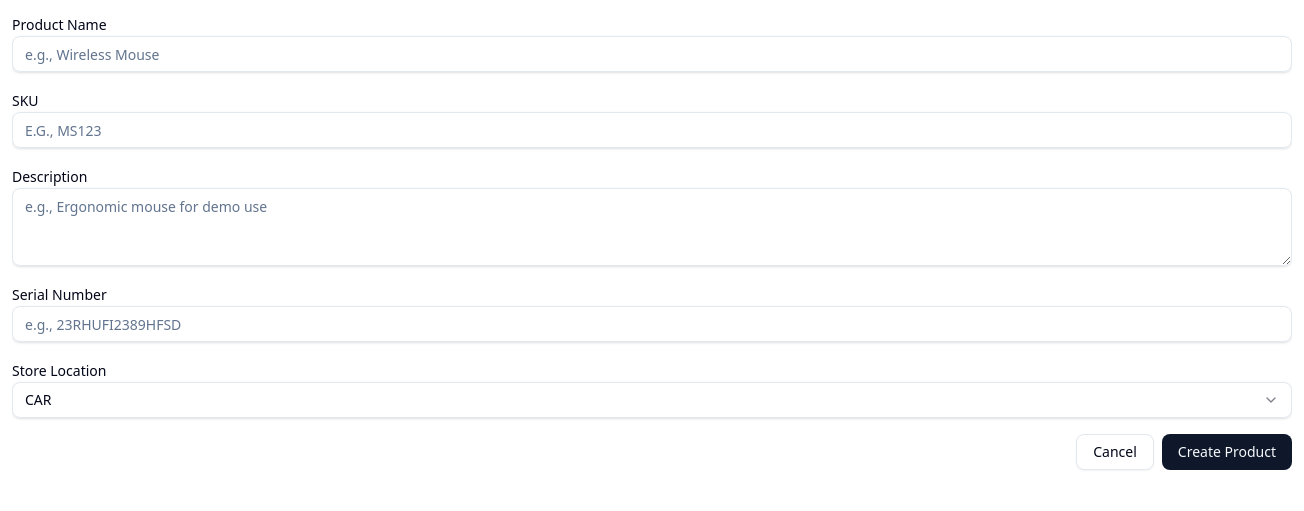
Test: CreateProductForm › should validate SKU format
Type "Test Product" into the field labelled "Product Name" at (652, 54), box [12, 36, 1292, 72]
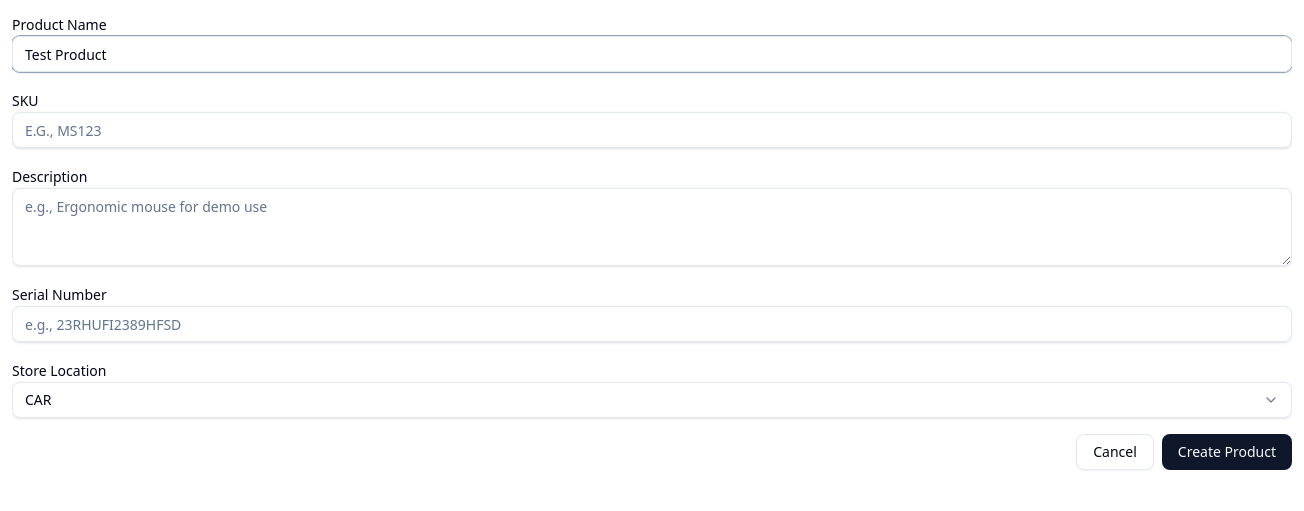
Type "INVALID@SKU" into the field labelled "SKU" at (652, 130), box [12, 112, 1292, 148]
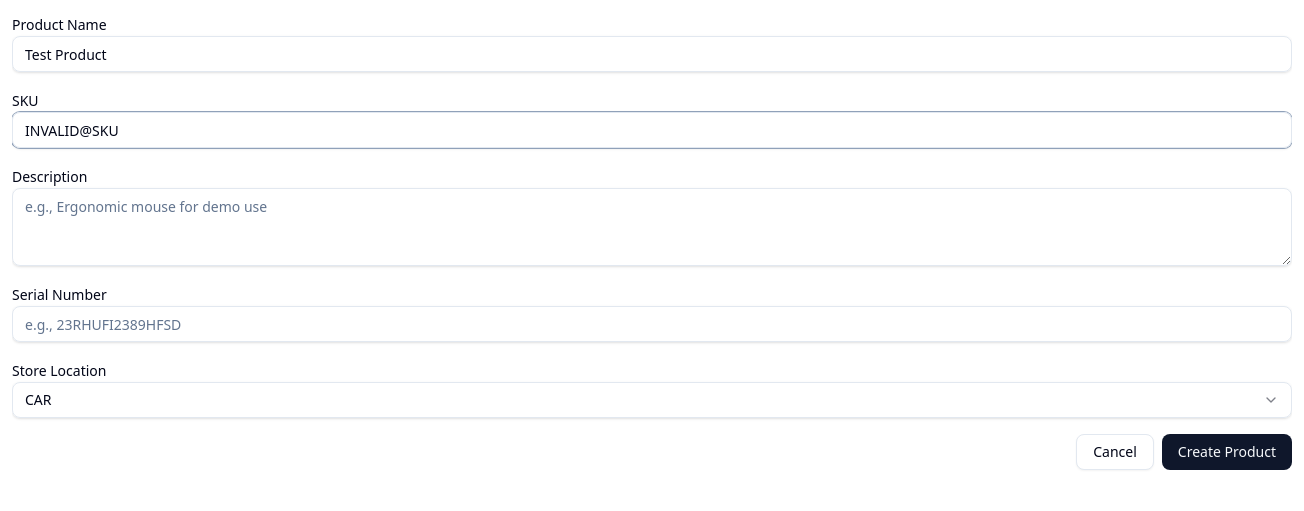
Type "Test Description" into the text box labelled "Description" at (652, 227), box [12, 188, 1292, 266]
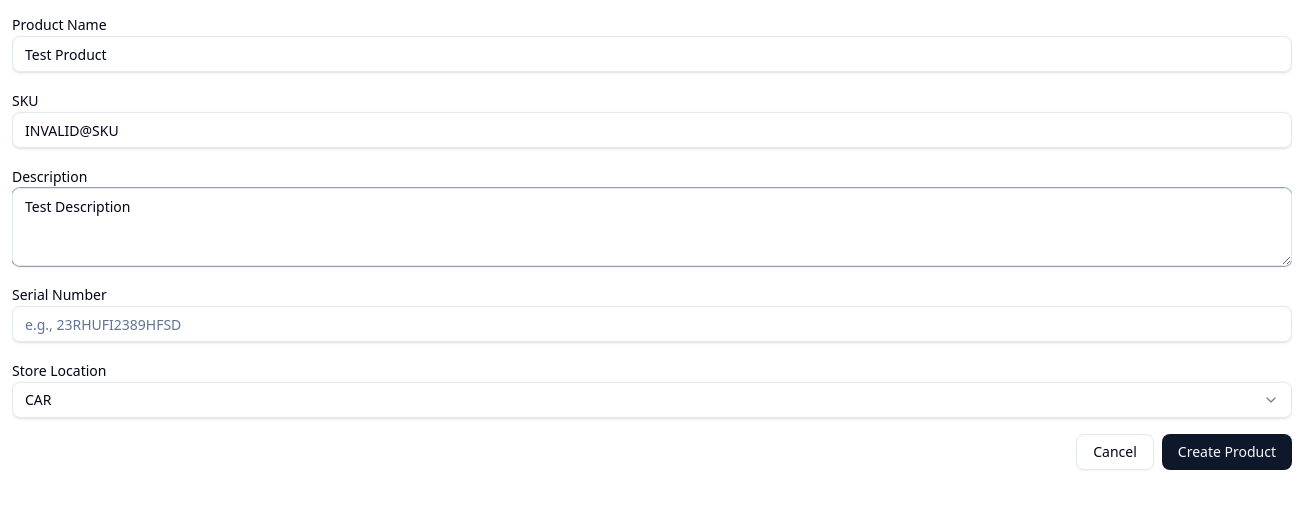
Type "TEST001" into the field labelled "Serial Number" at (652, 324), box [12, 306, 1292, 342]
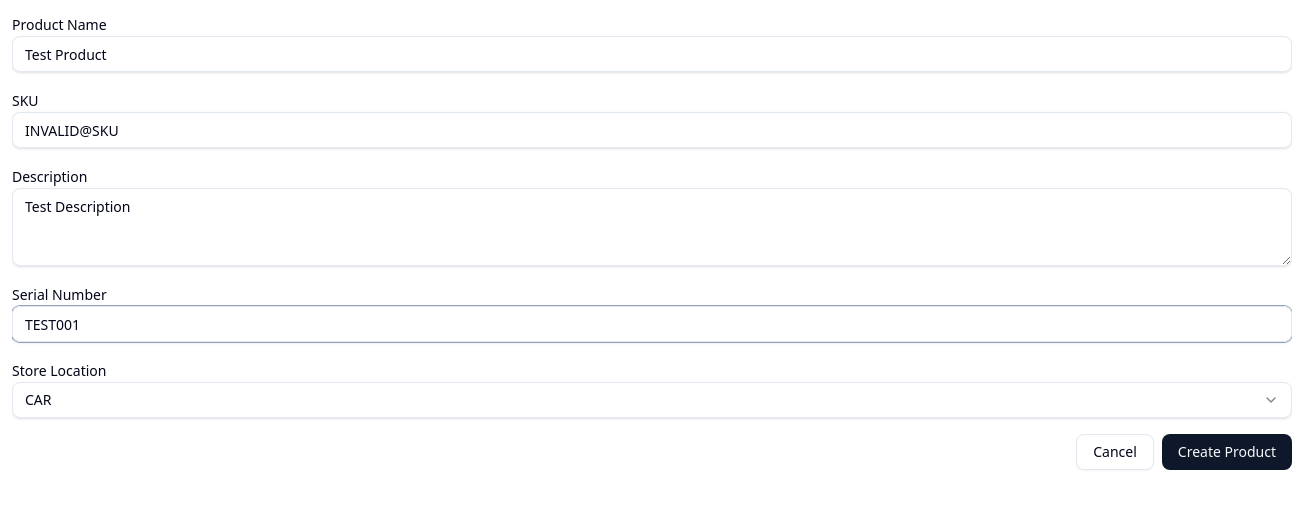
Click the button "Create Product" at (1227, 452), box [1162, 434, 1292, 470]
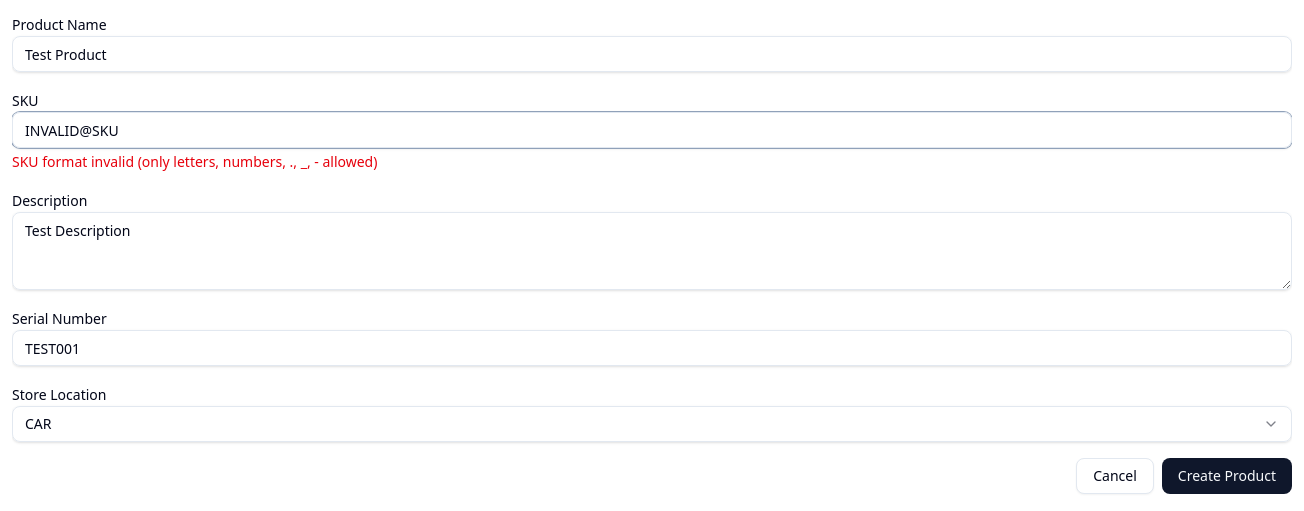
Expected: the text "SKU format invalid (only letters, numbers, ., _, - allowed)" is shown, [12, 152, 377, 171]
